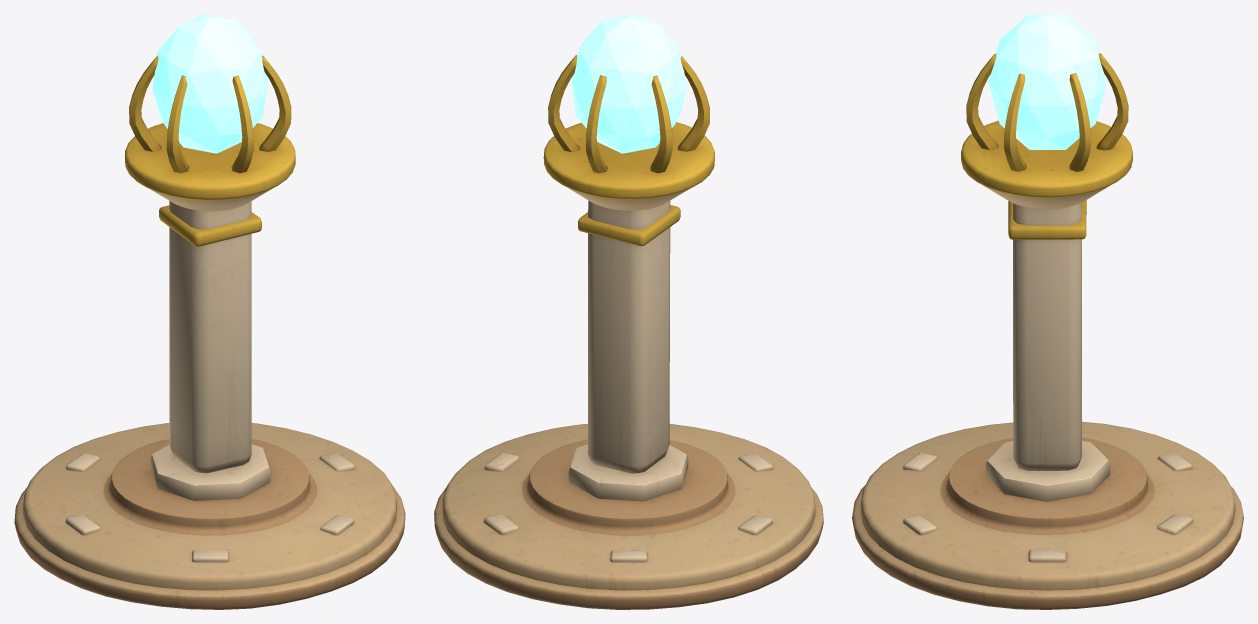
Rendered from bloom-relay.glb.
3 renders of one model, left to right at view 1: azimuth 30°, elevation 25°; view 2: azimuth 150°, elevation 25°; view 3: azimuth 270°, elevation 25°, orthographic.
Visible parts, largest first — view 1: pylon, crystal; view 2: pylon, crystal; view 3: pylon, crystal.
Part boxes in pixels (<box>): pylon: <box>14,55,405,609</box>; crystal: <box>152,14,268,153</box>; pylon: <box>434,55,823,609</box>; crystal: <box>571,14,686,153</box>; pylon: <box>852,53,1243,609</box>; crystal: <box>988,14,1106,149</box>.
Bounding box in the file's own units: 1.25 × 1.82 × 1.25.
5 materials, 4 textured.
